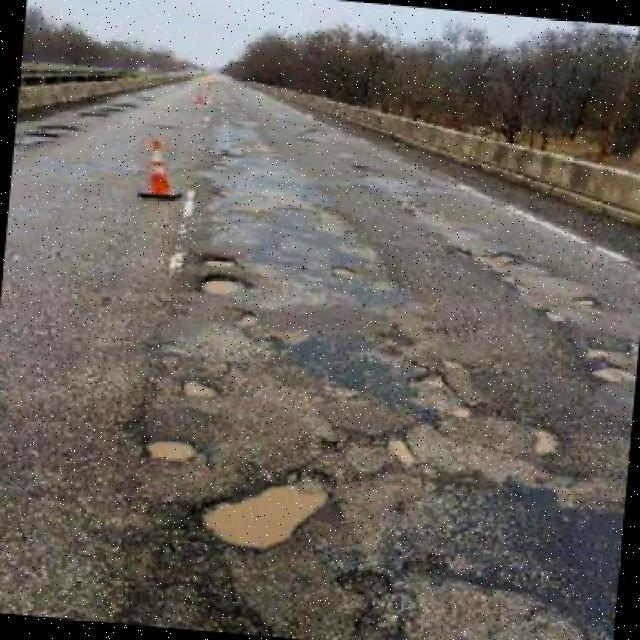Pothole: (200, 483, 331, 552), (142, 438, 206, 468), (197, 277, 246, 297), (180, 375, 220, 398), (202, 255, 242, 268)
